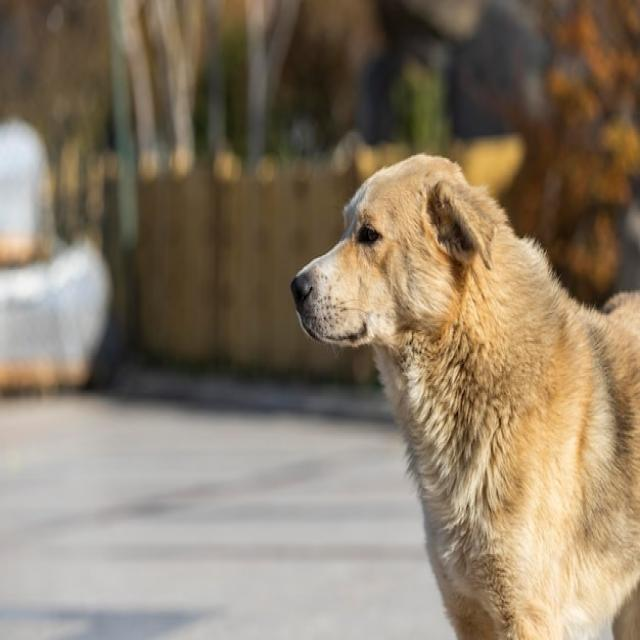Dog: (289, 157, 640, 640)
